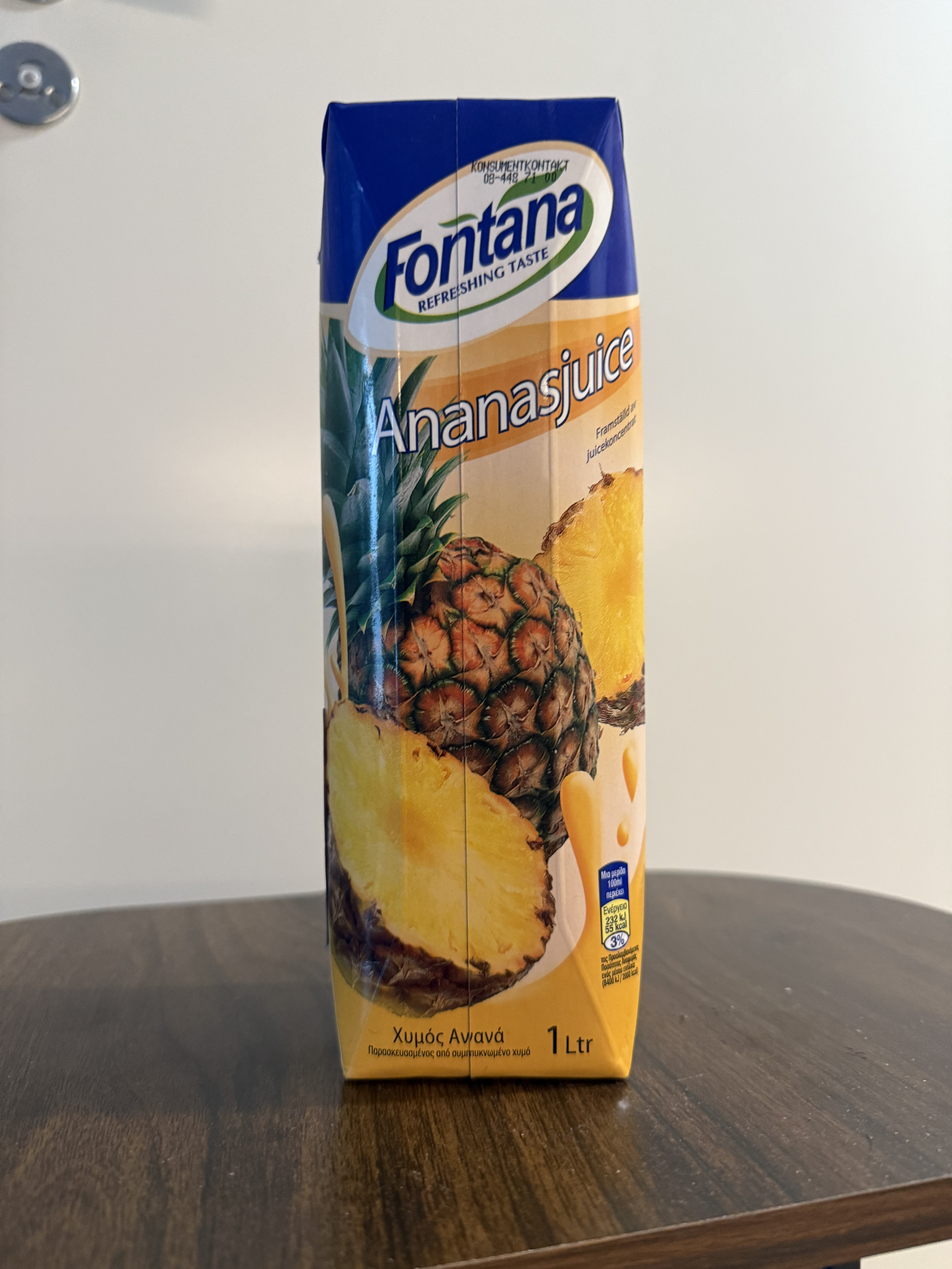Dryckeskartong: (321, 99, 646, 1084)
